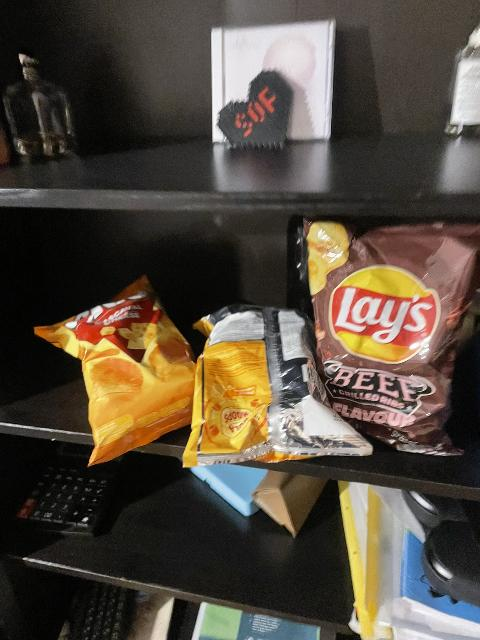Chio Cascaval 125g: (33, 281, 201, 467)
Chio Hula Hoops Cheese 70g: (179, 306, 375, 468)
Lays Beef Grilled Ribs 125g: (303, 221, 478, 455)
